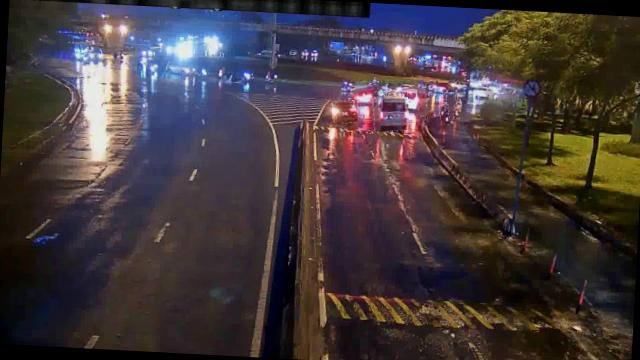Bike: (438, 104, 449, 125)
Bus: (372, 89, 409, 132)
Car: (332, 99, 358, 123), (353, 84, 380, 105)
